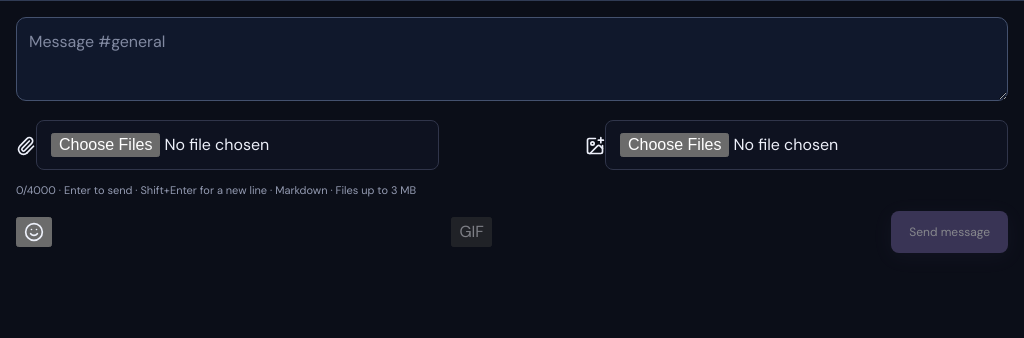
community composer › freezes an unconfirmed payload and retries with the same UUID and body
Type "one logical message" into the text box named "Message general" at (512, 59), box [16, 17, 1008, 101]
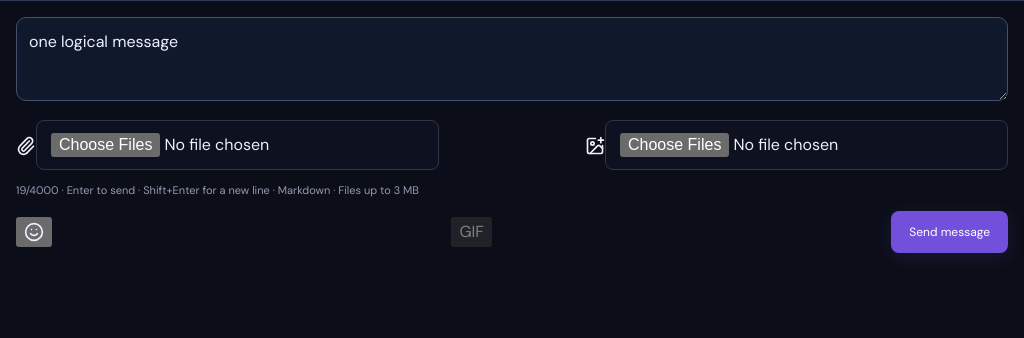
Click the button "Send message" at (950, 232), box [891, 210, 1008, 252]
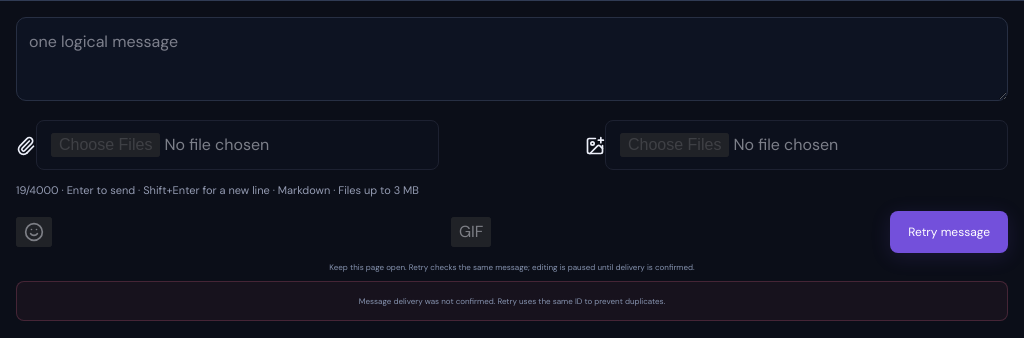
Check: the button "Retry message" is shown
Check: the text box named "Message general" is disabled, box [16, 17, 1008, 101]
Click the button "Retry message" at (949, 232), box [890, 210, 1008, 252]
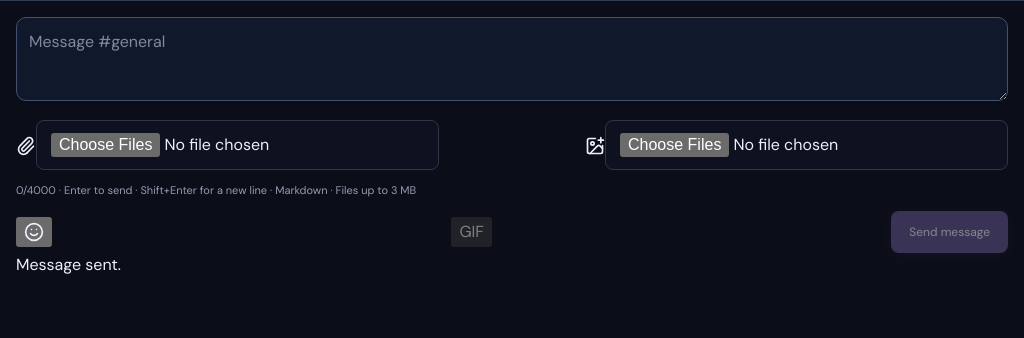
Check: the text "Message sent." is shown, box [16, 254, 121, 274]
